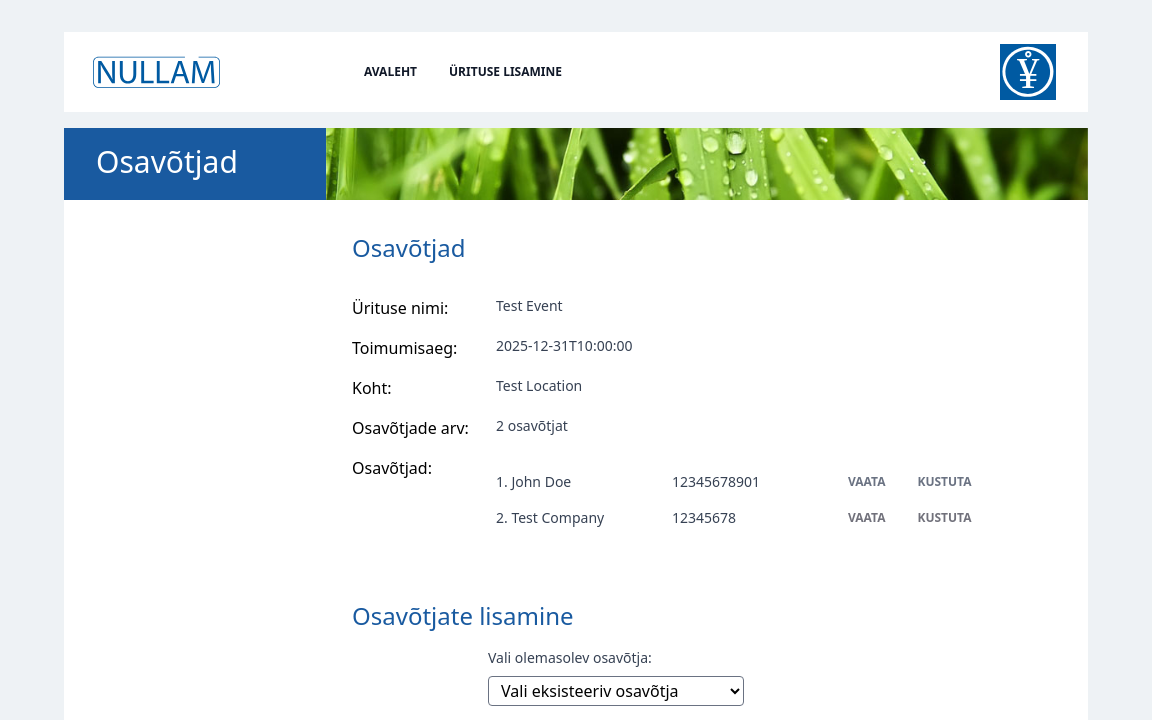
Test case: Osavõtjate Interaktsioonide Testid › Olemasoleva Osavõtja Valimise Protsess › valib olemasoleva eraisiku ja täidab vormi tüübi automaatselt
Select "Available Person (Eraisik)" in the dropdown labelled "Vali olemasolev osavõtja:". click: (616, 691)
box: x1=488 y1=676 x2=744 y2=706
(page scrolled)
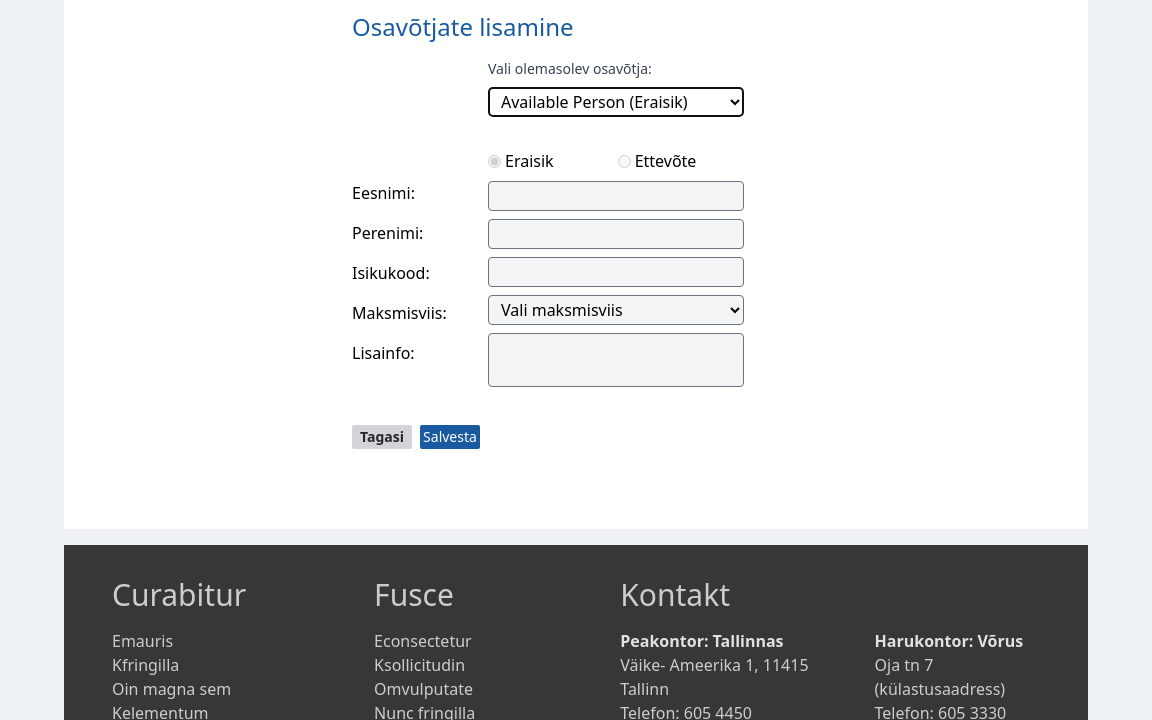
Expected: the radio button labelled "Eraisik" is checked, x1=488 y1=154 x2=501 y2=168
Result: the 1st field is disabled at x1=488 y1=181 x2=744 y2=211
Result: the text box is disabled at x1=488 y1=333 x2=744 y2=387
